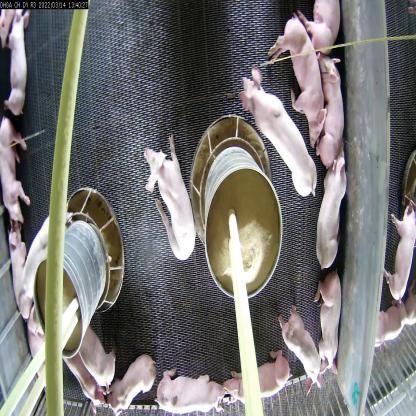Pig: (231, 60, 316, 218), (144, 131, 198, 261), (274, 16, 321, 158), (316, 44, 350, 181), (319, 156, 356, 277), (1, 223, 38, 331), (283, 322, 331, 403), (102, 347, 157, 415), (4, 10, 34, 122), (314, 277, 347, 375), (1, 124, 29, 231), (82, 313, 118, 396), (230, 348, 276, 402), (161, 362, 216, 403)
